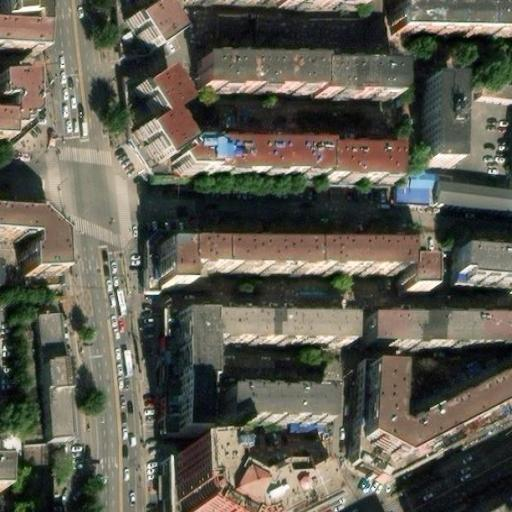building: (157, 244, 432, 295), (366, 375, 512, 470), (169, 151, 413, 184), (22, 309, 67, 440), (359, 370, 407, 487), (263, 454, 347, 512), (129, 74, 183, 164), (366, 318, 512, 349), (0, 208, 64, 272), (173, 321, 207, 440), (196, 55, 318, 88), (206, 317, 348, 345), (224, 383, 331, 417), (396, 0, 512, 27), (166, 466, 233, 512), (430, 177, 512, 213), (433, 76, 465, 164), (318, 56, 394, 89), (129, 0, 174, 54), (451, 479, 511, 512), (458, 253, 512, 288), (0, 28, 38, 56), (469, 79, 512, 103), (0, 440, 17, 484), (269, 0, 359, 5)
